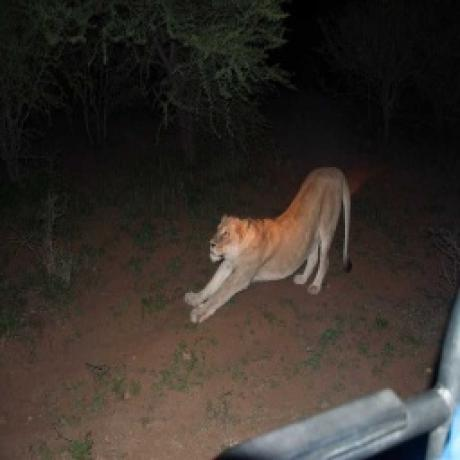Lion: (178, 158, 360, 320)
